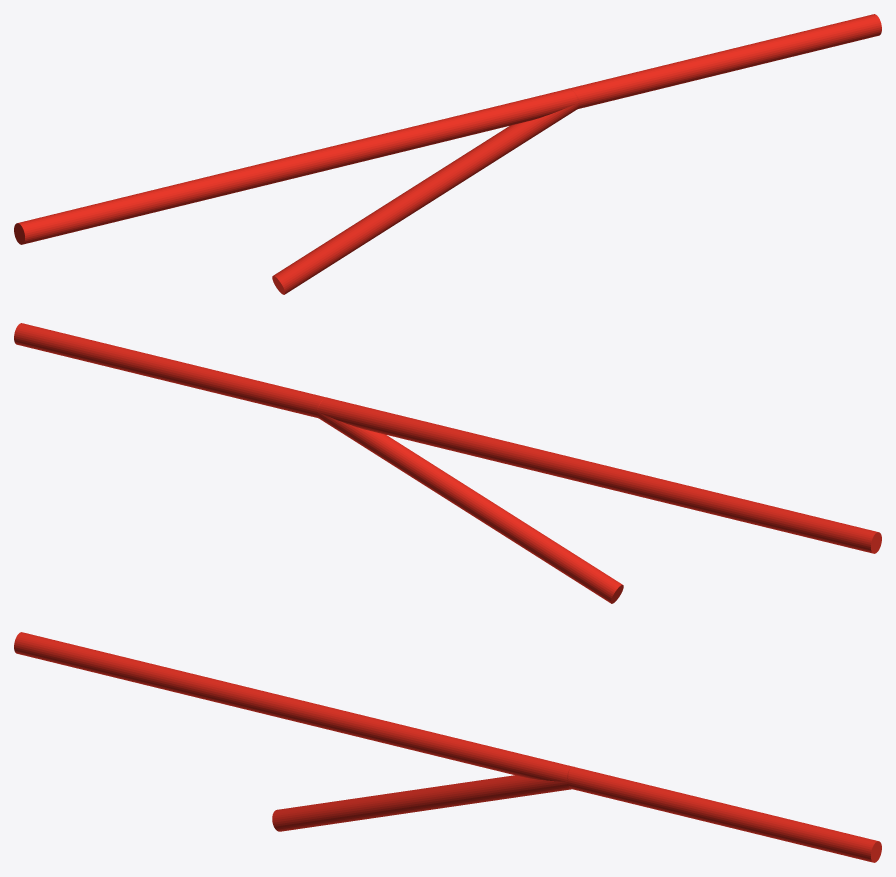
File: soporte.glb
The picture shows the model from 3 angles, top to bottom: view 1: azimuth 30°, elevation 25°; view 2: azimuth 150°, elevation 25°; view 3: azimuth 330°, elevation 25°; orthographic projection.
Parts seen in each view (by area): view 1: Cylinder.001; view 2: Cylinder.001; view 3: Cylinder.001.
Part boxes in pixels (bbox=[...]): Cylinder.001: bbox=[14, 14, 881, 294]; Cylinder.001: bbox=[14, 323, 881, 603]; Cylinder.001: bbox=[14, 632, 881, 862].
Bounding box in the file's own units: 5.38 × 0.8049 × 0.121.
